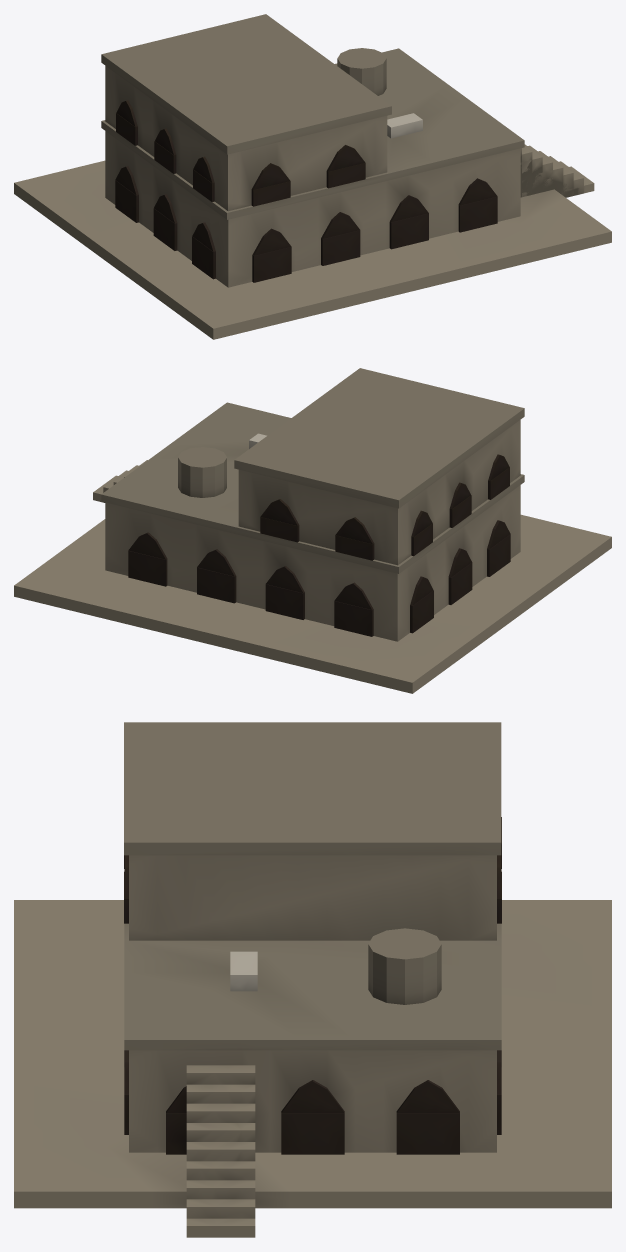
File: pir-ghaib.glb
The picture shows the model from 3 angles, top to bottom: view 1: azimuth 30°, elevation 25°; view 2: azimuth 150°, elevation 25°; view 3: azimuth 270°, elevation 25°; orthographic projection. The views are drawn at different scales.
Parts seen in each view (by area): view 1: p2_upper, p1_storeys, p0_base; view 2: p2_upper, p1_storeys, p0_base; view 3: p2_upper, p0_base, p1_storeys.
Boxes of the visible parts, x1=… form: p2_upper: x1=101, y1=14, x2=594, y2=211; p1_storeys: x1=101, y1=48, x2=524, y2=287; p0_base: x1=14, y1=160, x2=611, y2=339; p2_upper: x1=93, y1=368, x2=524, y2=565; p1_storeys: x1=101, y1=402, x2=524, y2=641; p0_base: x1=14, y1=514, x2=611, y2=693; p2_upper: x1=124, y1=722, x2=501, y2=1237; p0_base: x1=14, y1=900, x2=611, y2=1208; p1_storeys: x1=124, y1=869, x2=501, y2=1154.
Bounding box in the file's own units: 33 × 11.11 × 26.
